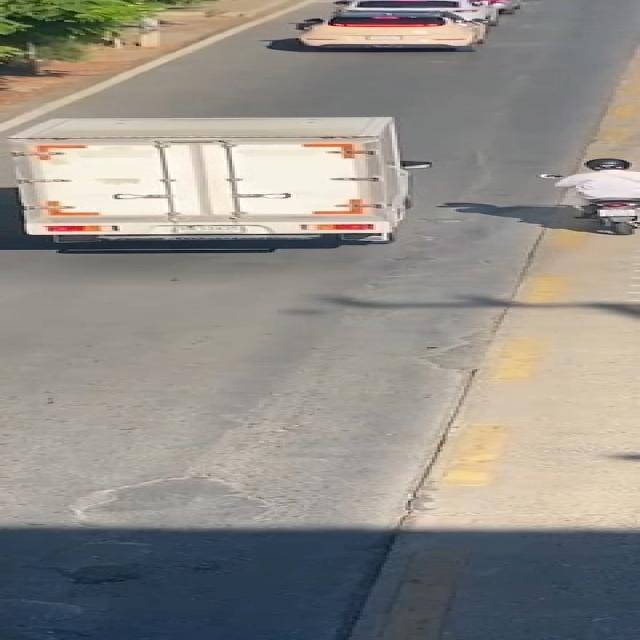car: (0, 110, 442, 256), (278, 5, 492, 54)
